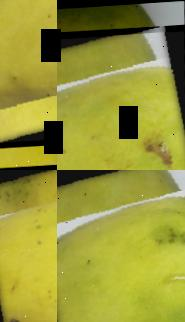PartiallyRipe: (57, 170, 185, 322), (57, 28, 185, 170)
Ripe: (0, 170, 57, 322), (0, 0, 57, 146)
